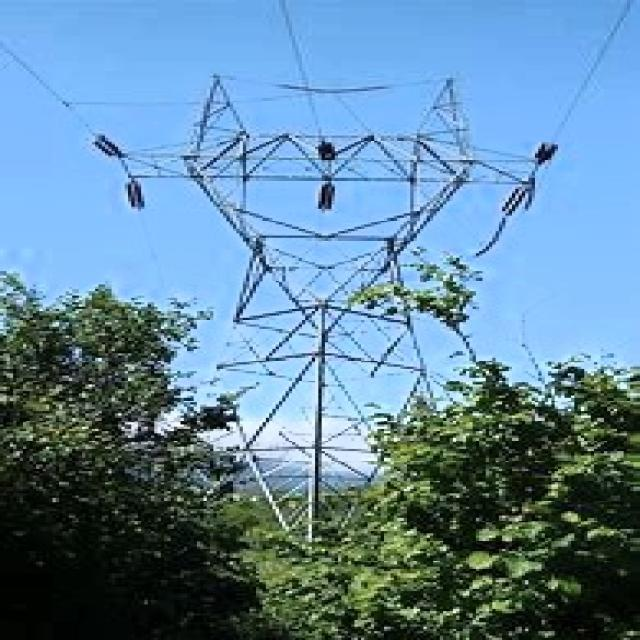utility poles: (357, 268, 581, 433), (118, 305, 289, 452)
